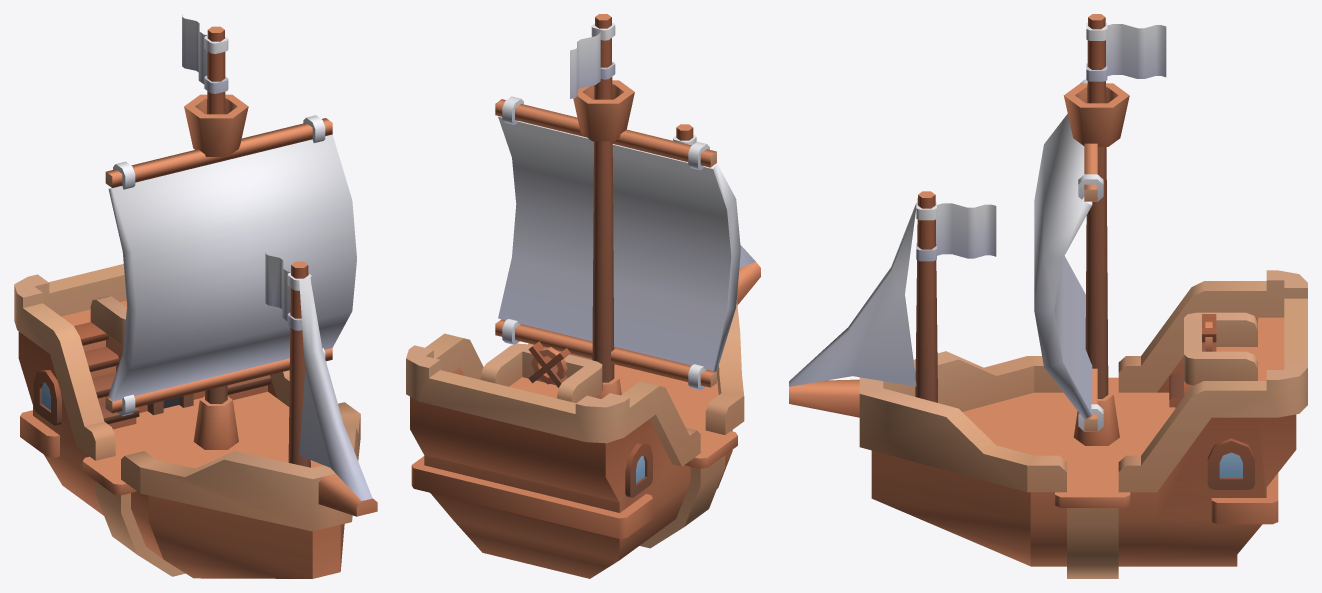
The model's file is kenney-pirate-ship-small.glb.
The picture shows the model from 3 angles, left to right: view 1: azimuth 30°, elevation 25°; view 2: azimuth 150°, elevation 25°; view 3: azimuth 270°, elevation 25°; orthographic projection. The views are drawn at different scales.
Parts seen in each view (by area): view 1: ship-small; view 2: ship-small; view 3: ship-small.
Part boxes in pixels (x1,y1,x2,y2): ship-small: (14, 15, 377, 578); ship-small: (406, 14, 760, 578); ship-small: (789, 14, 1307, 578).
Bounding box in the file's own units: 4.8 × 9.96 × 8.8.
1 material, 1 textured.
